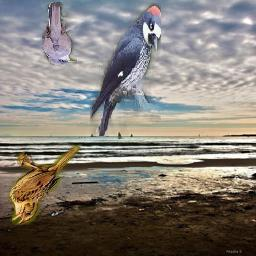Cuckoo: (43, 3, 78, 66)
Sparrow: (9, 145, 81, 225)
Woodpecker: (91, 4, 162, 137)
